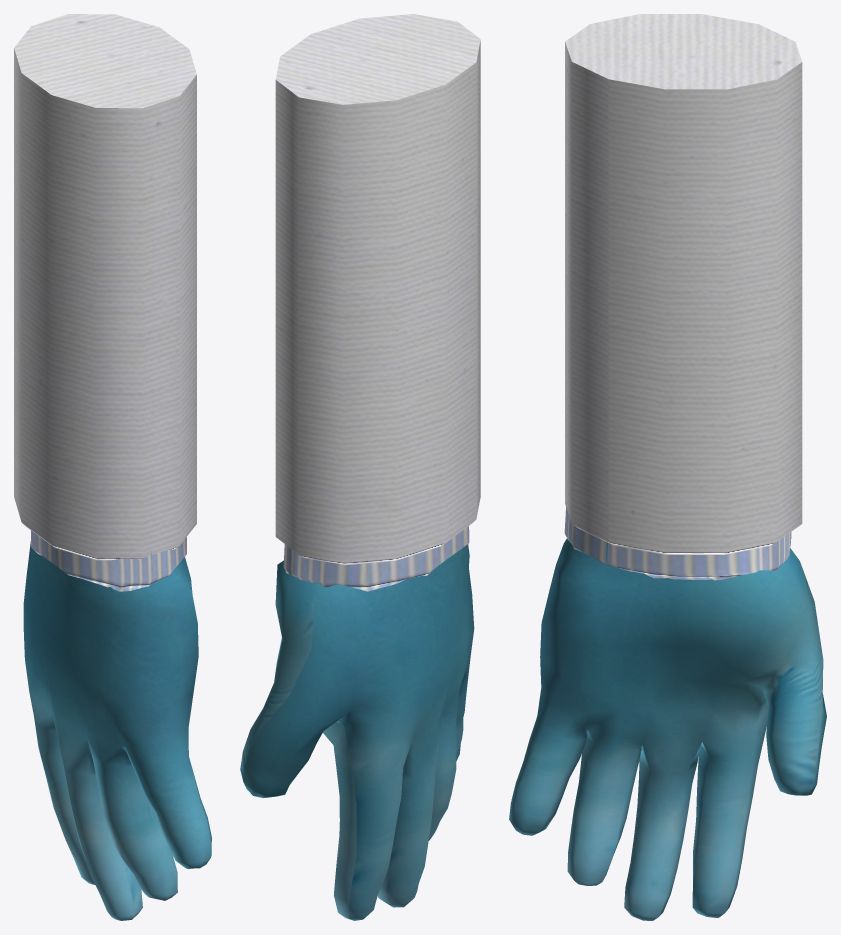
Rendered from ch_Scientist_Hand.fbx.
3 renders of one model, left to right at view 1: azimuth 30°, elevation 25°; view 2: azimuth 150°, elevation 25°; view 3: azimuth 270°, elevation 25°, orthographic. The views are drawn at different scales.
Parts seen in each view (by area): view 1: ch_Scientist_Hand; view 2: ch_Scientist_Hand; view 3: ch_Scientist_Hand.
Boxes of the visible parts, <box> form: ch_Scientist_Hand: <box>14,14,211,920</box>; ch_Scientist_Hand: <box>240,14,480,920</box>; ch_Scientist_Hand: <box>509,14,826,920</box>.
Size of the model in its own units: 10.89 by 56.96 by 18.92.
Materials: 1 (1 with a texture image).
